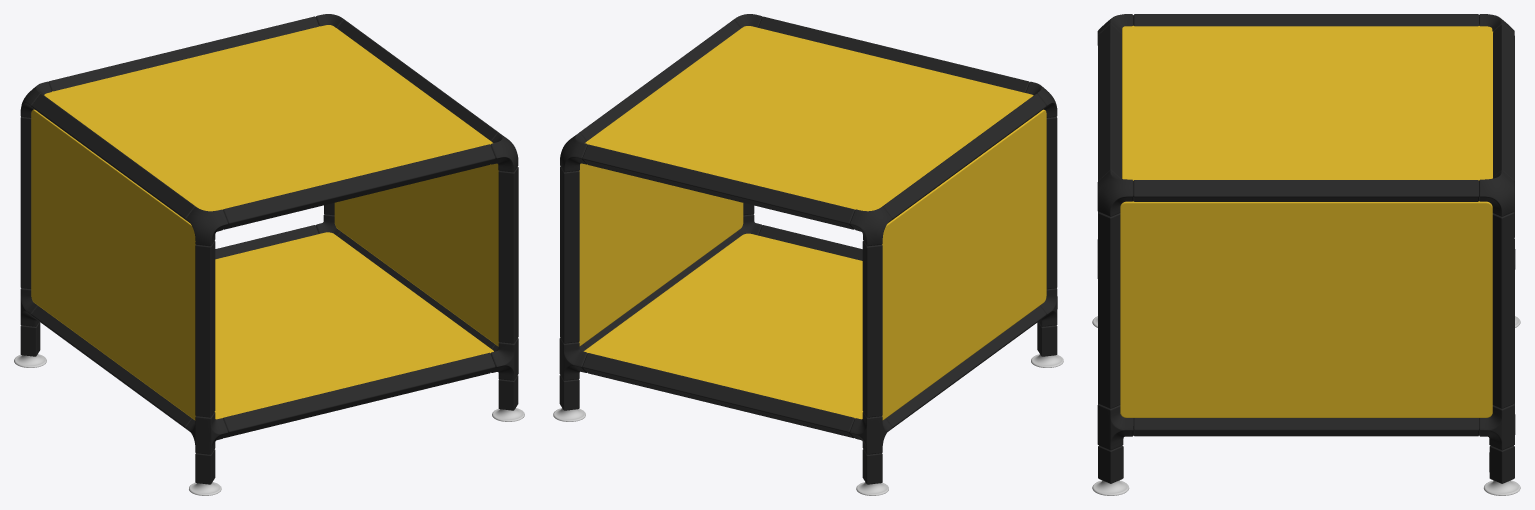
The picture shows the model from 3 angles, left to right: view 1: azimuth 30°, elevation 25°; view 2: azimuth 150°, elevation 25°; view 3: azimuth 270°, elevation 25°; orthographic projection. The views are drawn at different scales.
Parts seen in each view (by area): view 1: 374x374x229; view 2: 374x374x229; view 3: 374x374x229.
Part boxes in pixels (x1,y1,x2,y2): 374x374x229: (14, 14, 524, 495); 374x374x229: (553, 14, 1063, 495); 374x374x229: (1092, 14, 1520, 495).
Bounding box in the file's own units: 0.4639 × 0.3683 × 0.4632.
